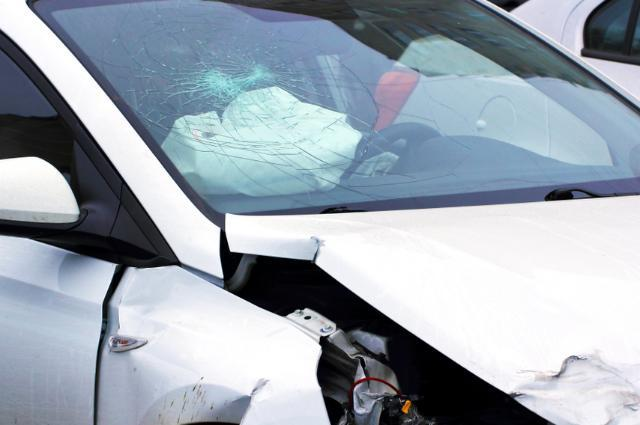Bonnet: (222, 174, 640, 425)
Fender: (90, 253, 473, 425)
Windshield: (45, 0, 640, 209)
